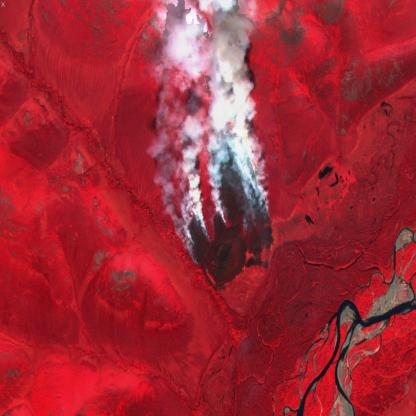fire: (172, 93, 276, 298)
